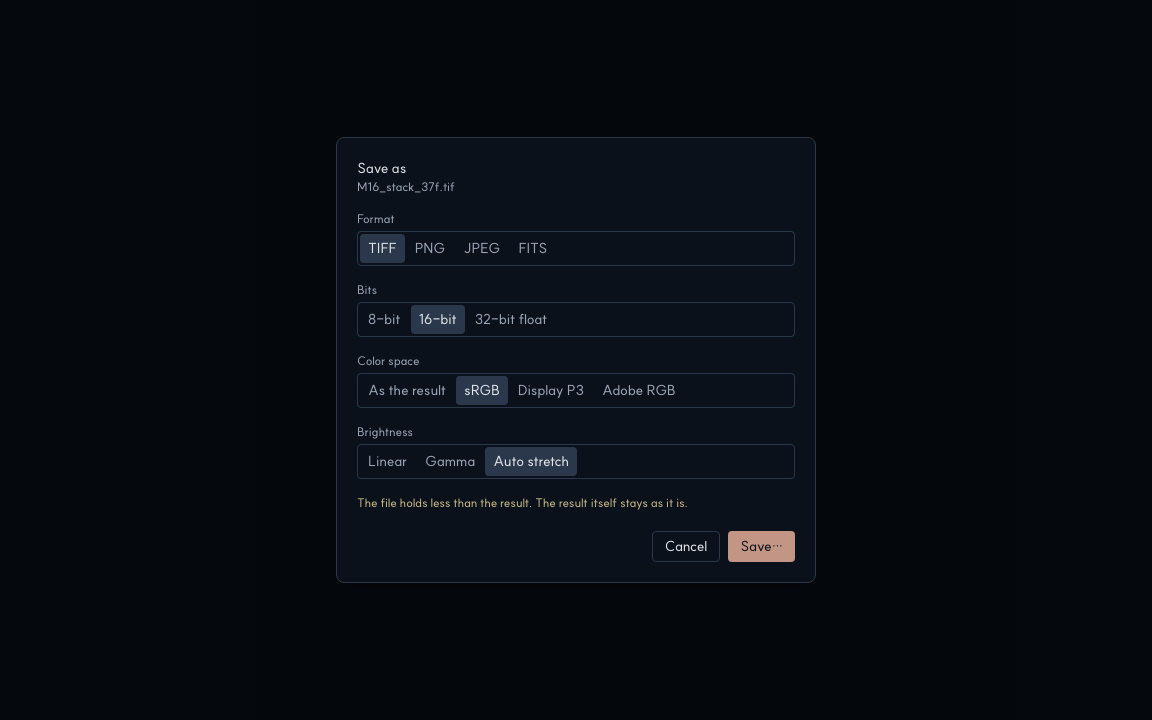
Test case: the save-as dialog › offers the bits of the format and says when the file holds less
Expected: the text "holds less than the result" is shown, [357,495,688,510]
Step 1. Click the radio button labelled "32-bit float" → point(511, 320), box [467,305,555,334]
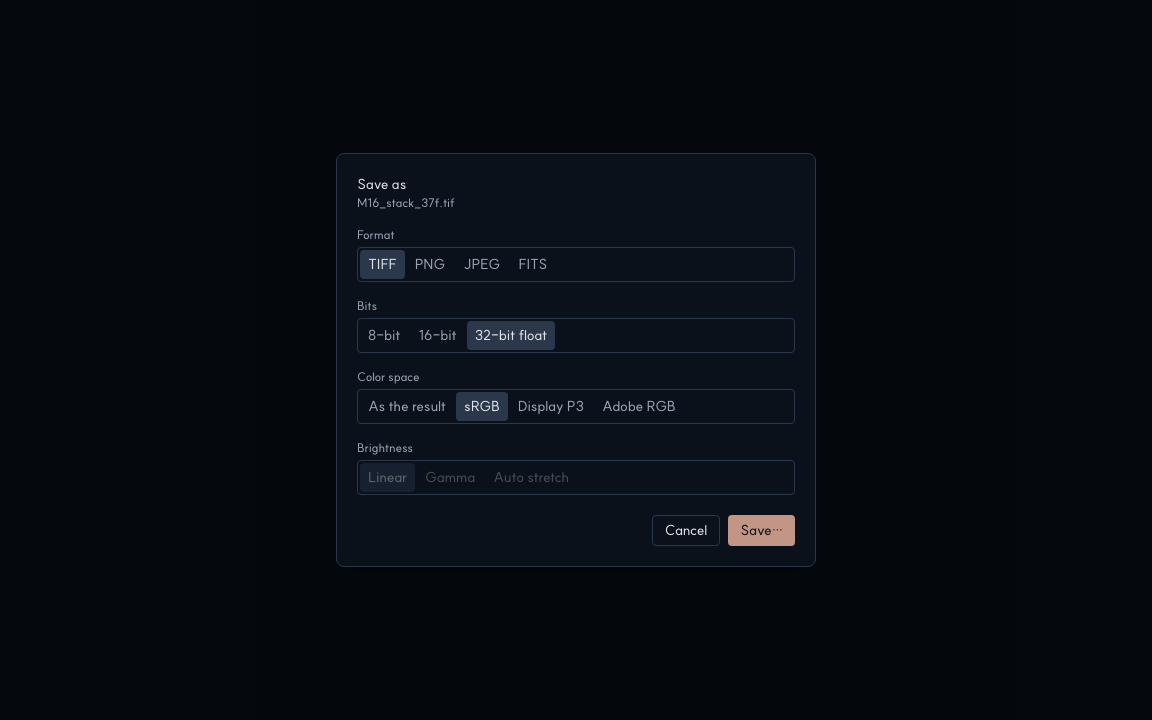
Result: the text "holds less than the result" is gone
Result: the radio button labelled "Gamma" is disabled at [417,463,483,492]
Step 2. Click the radio button labelled "JPEG" → point(482, 264), box [455,250,508,279]
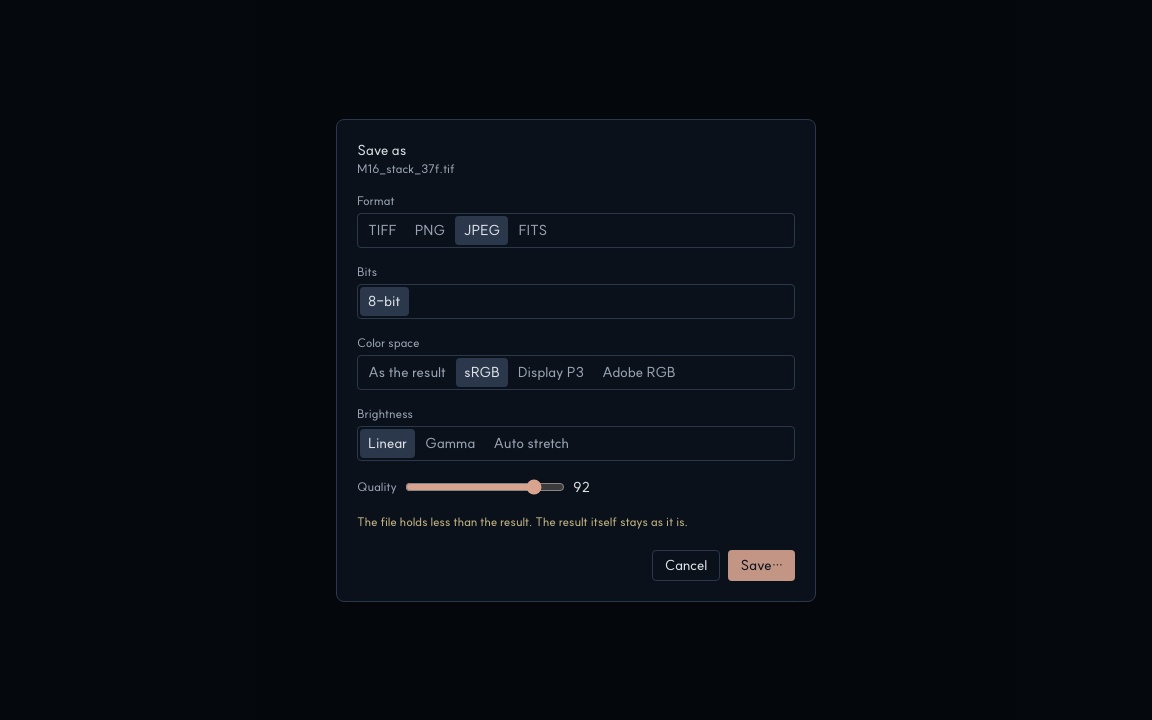
Result: the radio button labelled "16-bit" is gone
Result: the slider labelled "Quality" is shown at [405,479,565,495]
